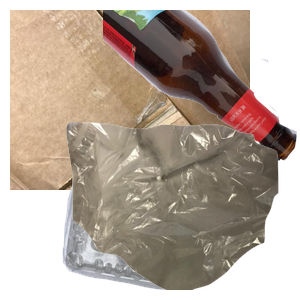cardboard: (10, 10, 250, 190)
glass: (103, 10, 300, 163)
plastic: (60, 141, 263, 300)
trash: (64, 120, 300, 300)
